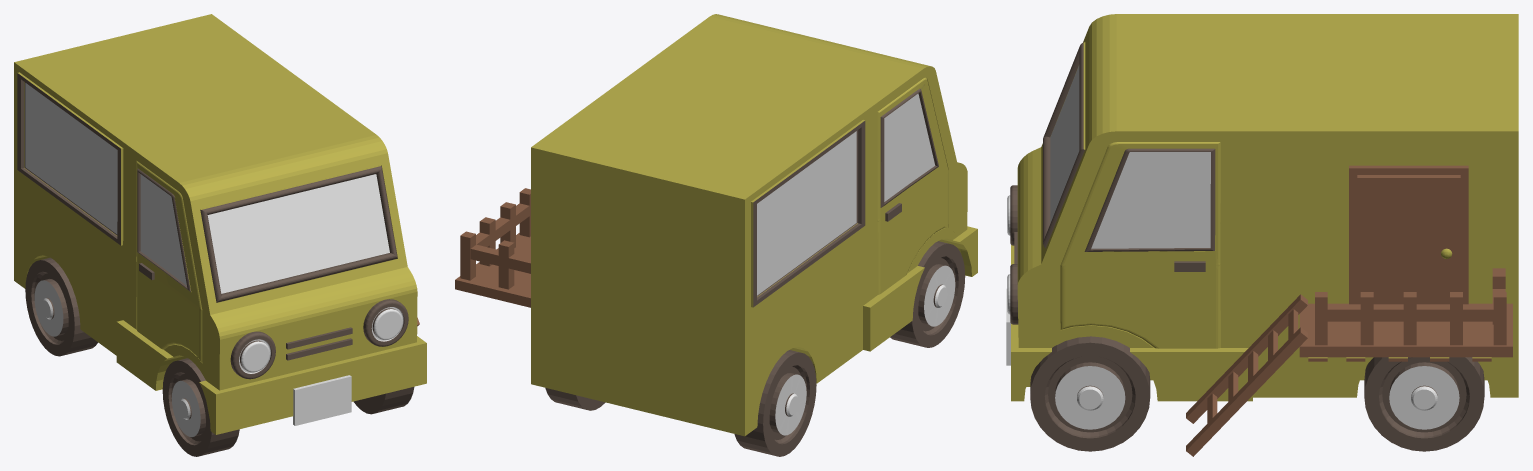
File: CampingTruck.fbx
3 views of the same model, side by side, from view 1: azimuth 30°, elevation 25°; view 2: azimuth 150°, elevation 25°; view 3: azimuth 270°, elevation 25° (orthographic). The views are drawn at different scales.
Parts seen in each view (by area): view 1: Cube.055, Cube.056, Cylinder.001, Cylinder, Cube.061, Cube.062; view 2: Cube.055, Cylinder.001, Cube.056, Cube.076, Cube.075, Cube.073, Cube.074; view 3: Cube.055, Cylinder.001, Cube.063, Cube.056, Cube.065, Cube.064, Cube.072, Cube.074, Cube.073, Cube.075, Cylinder, Cube.071.
Boxes of the visible parts, x1=… form: Cube.055: x1=14, y1=14, x2=417, y2=390; Cube.056: x1=116, y1=320, x2=426, y2=434; Cylinder.001: x1=25, y1=257, x2=414, y2=456; Cylinder: x1=230, y1=299, x2=408, y2=379; Cube.061: x1=293, y1=375, x2=351, y2=425; Cube.062: x1=139, y1=263, x2=352, y2=360; Cube.055: x1=455, y1=14, x2=967, y2=436; Cylinder.001: x1=545, y1=241, x2=965, y2=456; Cube.056: x1=863, y1=226, x2=977, y2=351; Cube.076: x1=470, y1=240, x2=530, y2=289; Cube.075: x1=460, y1=231, x2=489, y2=280; Cube.073: x1=500, y1=202, x2=529, y2=247; Cube.074: x1=479, y1=217, x2=510, y2=266; Cube.055: x1=1017, y1=14, x2=1518, y2=397; Cylinder.001: x1=1030, y1=336, x2=1484, y2=451; Cube.063: x1=1349, y1=165, x2=1468, y2=304; Cube.056: x1=1011, y1=245, x2=1252, y2=401; Cube.065: x1=1186, y1=327, x2=1307, y2=456; Cube.064: x1=1186, y1=294, x2=1307, y2=423; Cube.072: x1=1325, y1=292, x2=1373, y2=345; Cube.074: x1=1416, y1=292, x2=1462, y2=345; Cube.073: x1=1373, y1=292, x2=1416, y2=345; Cube.075: x1=1463, y1=292, x2=1506, y2=345; Cylinder: x1=1007, y1=185, x2=1018, y2=324; Cube.071: x1=1315, y1=292, x2=1327, y2=345.
Size of the model in its own units: 587 by 527 by 768.
